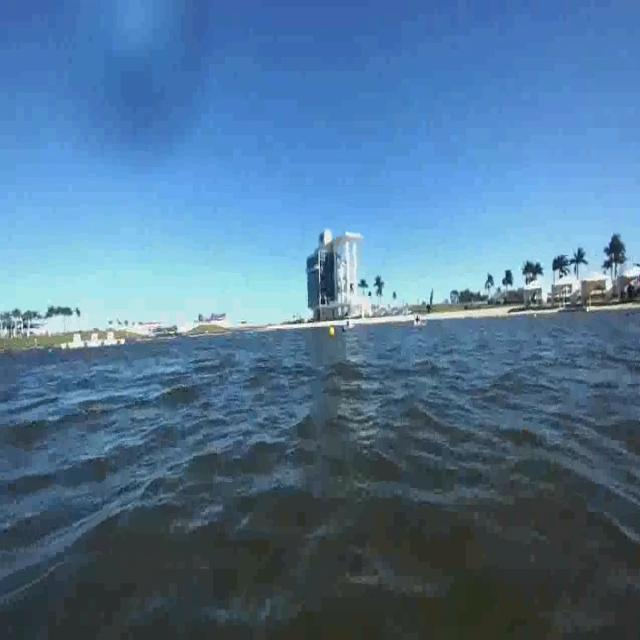yellow-buoy: (328, 324, 336, 338)
